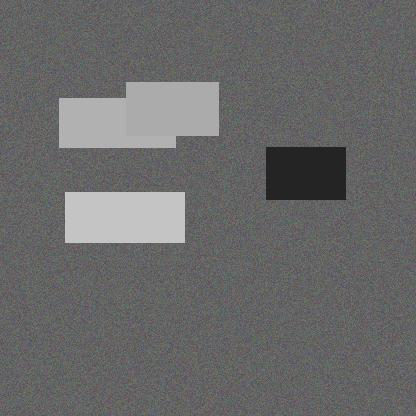empty: (119, 268, 171, 341)
